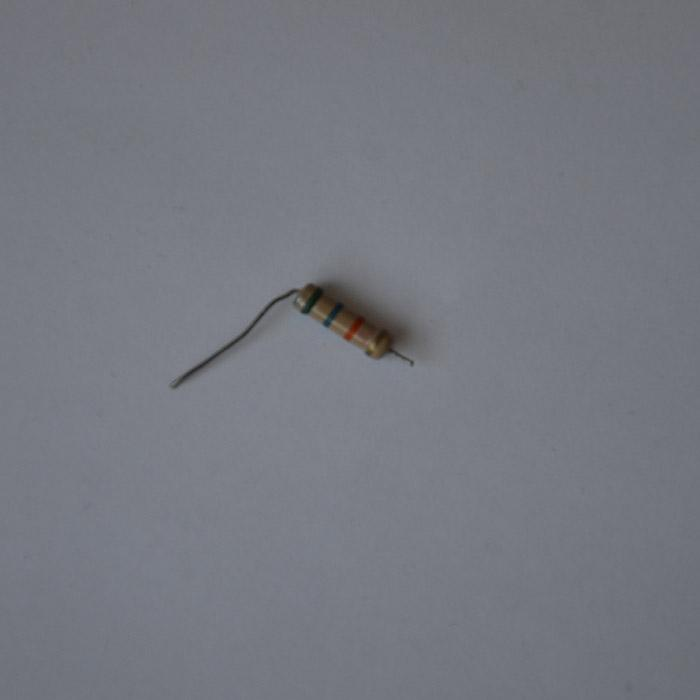resistor: (288, 280, 397, 362)
